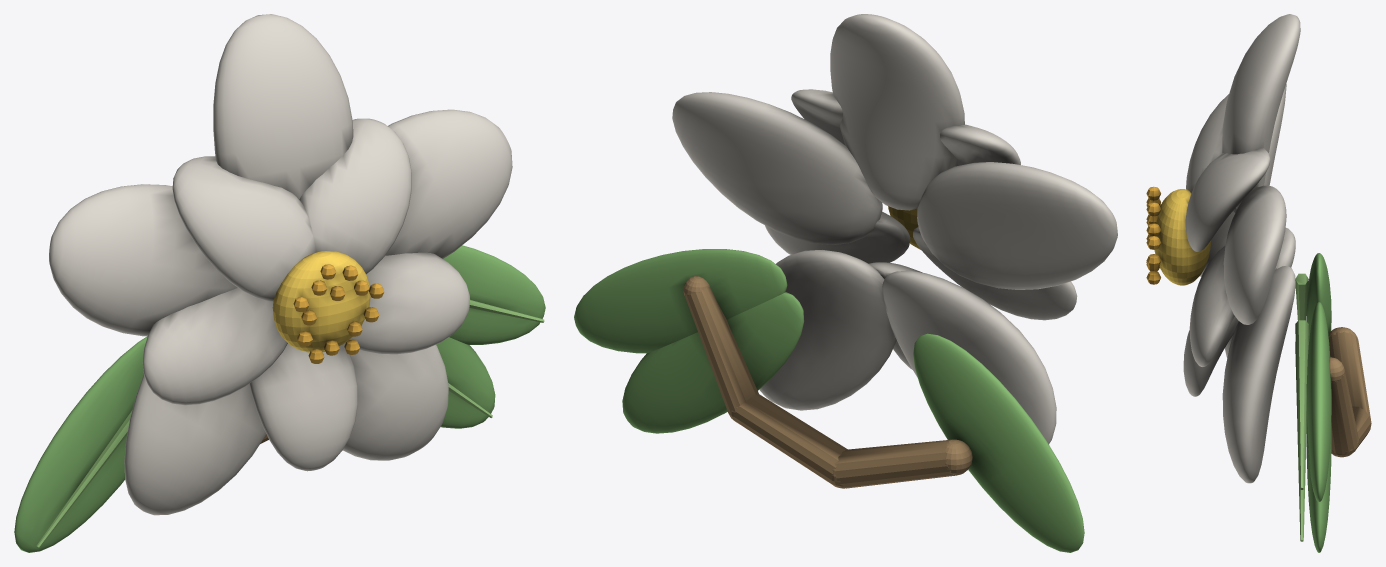
File: emb_flor.glb
3 views of the same model, side by side, from view 1: azimuth 30°, elevation 25°; view 2: azimuth 150°, elevation 25°; view 3: azimuth 270°, elevation 25° (orthographic). The views are drawn at different scales.
Visible parts, largest first — view 1: emb_flor; view 2: emb_flor; view 3: emb_flor.
Part boxes in pixels (x1,y1,x2,y2): emb_flor: (14, 14, 545, 552); emb_flor: (574, 14, 1117, 552); emb_flor: (1146, 14, 1371, 552).
Bounding box in the file's own units: 0.0973 × 0.0868 × 0.0395.
